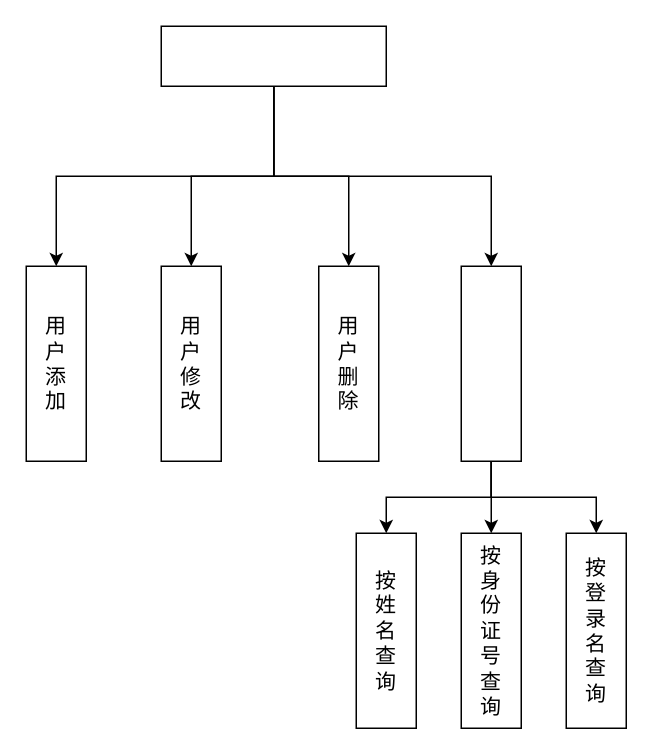
Image size: 653x755. Some labels were removed from this diagram. Here are the shapes that lost their labels. From the top down, the centre of each, then its label:
pixel 273 55: 用户管理
pixel 490 363: 用 户 查 询
